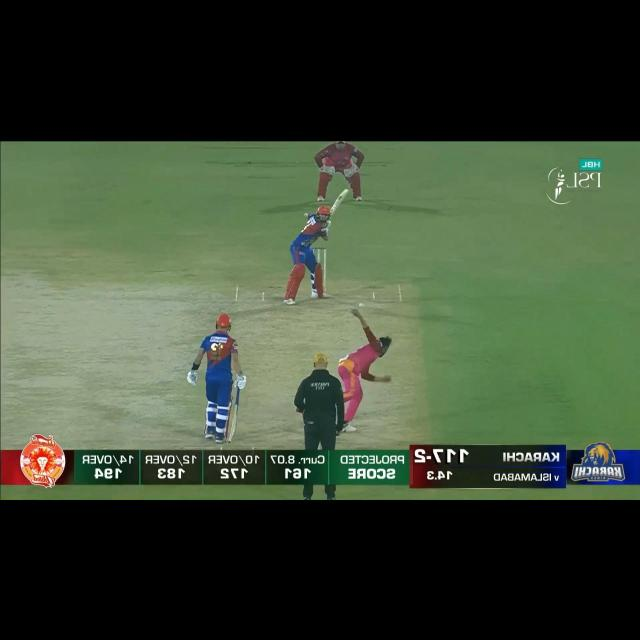bat: (325, 190, 348, 222), (226, 404, 243, 444)
toe: (227, 428, 236, 443), (338, 189, 349, 200)
